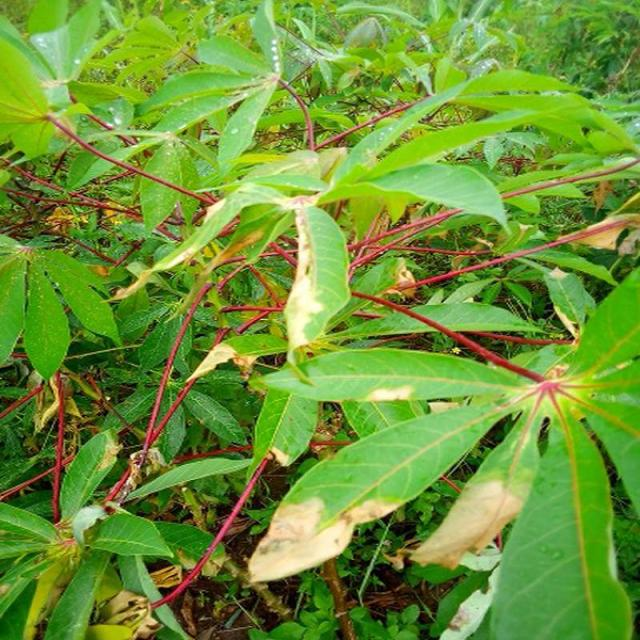cassava leaf: (248, 399, 510, 583), (284, 203, 352, 353)
